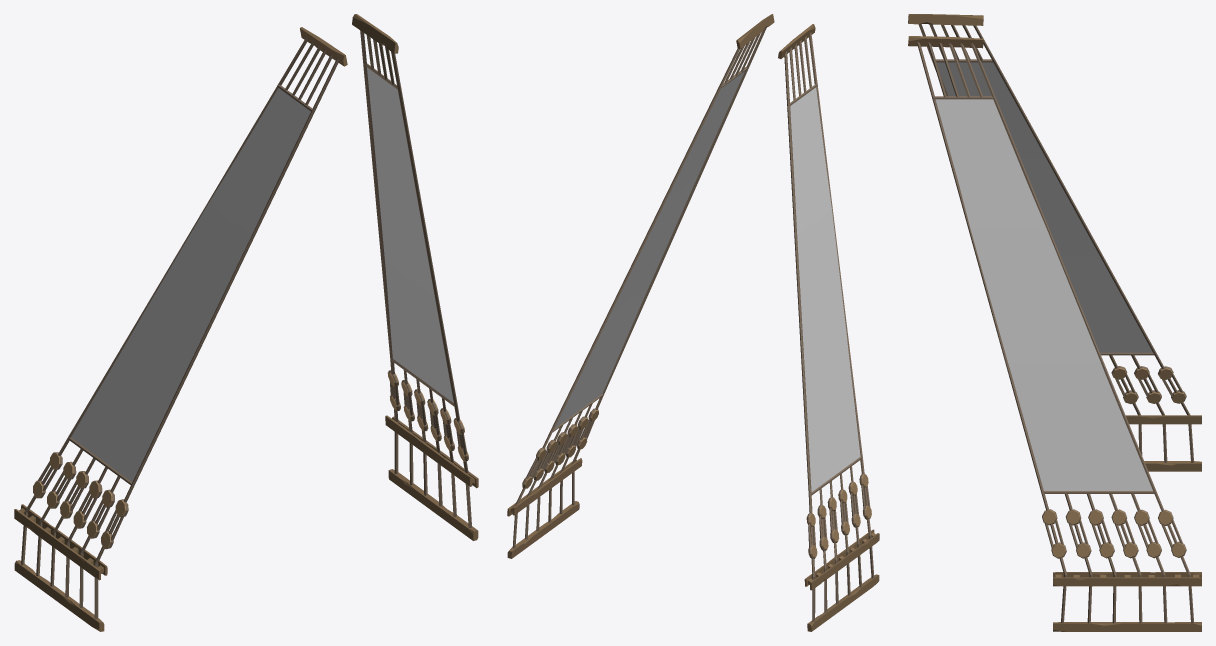
Rendered from SM_Veh_Ship_L_01_Ratlines_Middle_01.fbx.
3 renders of one model, left to right at view 1: azimuth 30°, elevation 25°; view 2: azimuth 150°, elevation 25°; view 3: azimuth 270°, elevation 25°, orthographic. The views are drawn at different scales.
Visible parts, largest first — view 1: SM_Veh_Ship_L_01_Ratlines_Middle_01; view 2: SM_Veh_Ship_L_01_Ratlines_Middle_01; view 3: SM_Veh_Ship_L_01_Ratlines_Middle_01.
Boxes of the visible parts, x1,y1,x2,y2 form: SM_Veh_Ship_L_01_Ratlines_Middle_01: (14, 14, 478, 631); SM_Veh_Ship_L_01_Ratlines_Middle_01: (507, 14, 879, 631); SM_Veh_Ship_L_01_Ratlines_Middle_01: (908, 14, 1201, 631).
Size of the model in its own units: 1034 by 1552 by 786.
